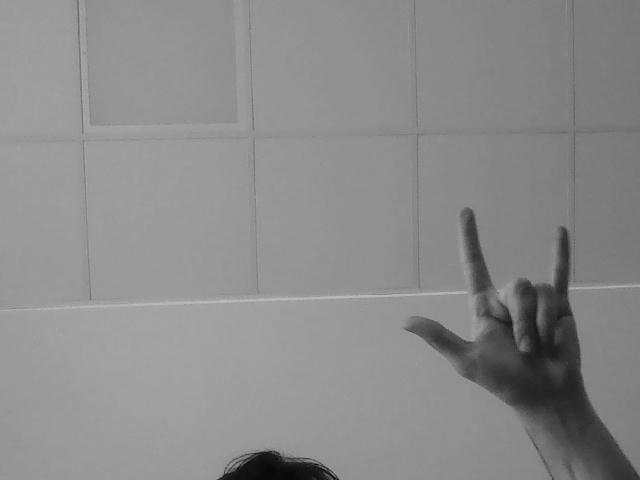I_Love_You: (340, 184, 610, 404)
